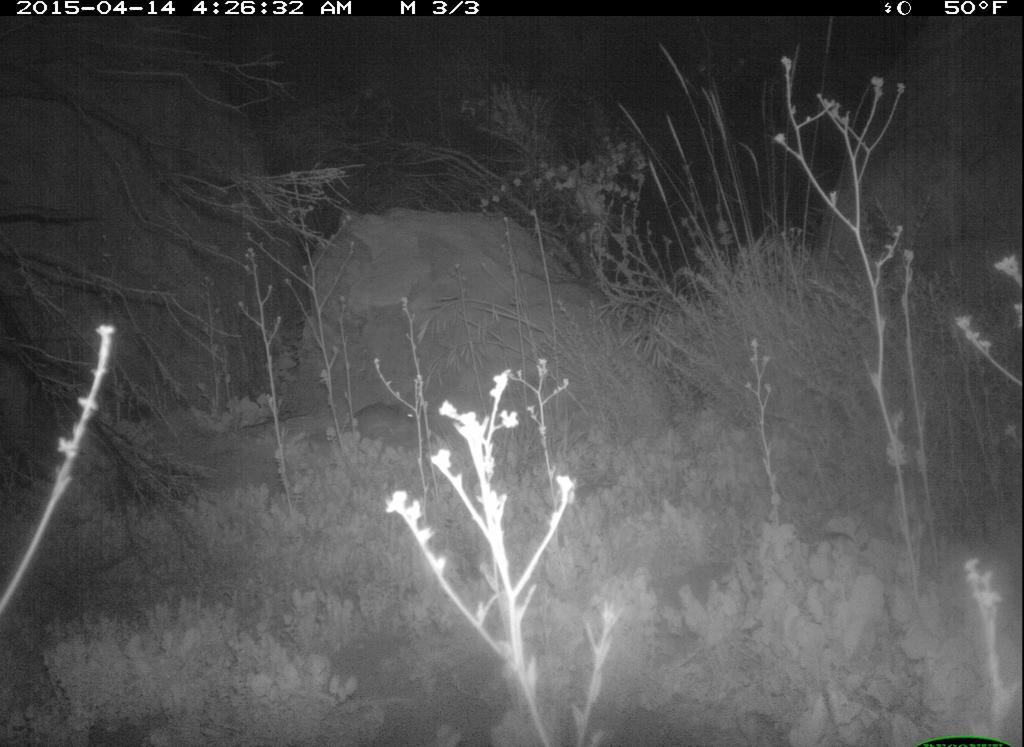rodent: (336, 398, 426, 450)
